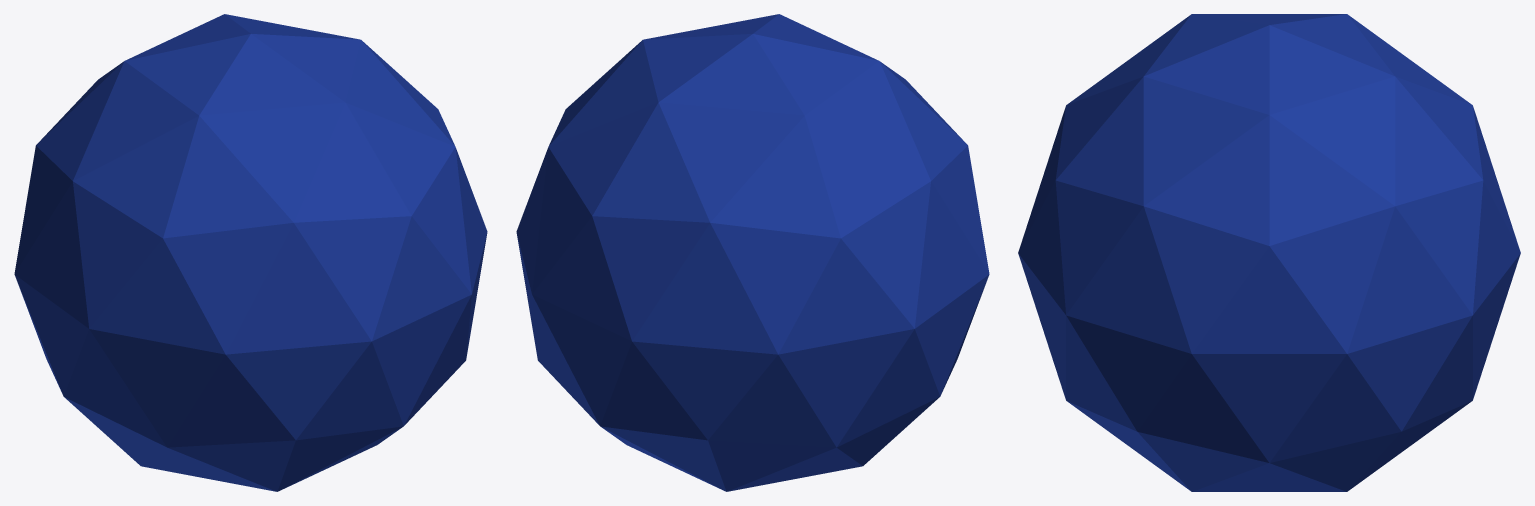
The model's file is shield_activated_ability.fbx.
The picture shows the model from 3 angles, left to right: view 1: azimuth 30°, elevation 25°; view 2: azimuth 150°, elevation 25°; view 3: azimuth 270°, elevation 25°; orthographic projection. The views are drawn at different scales.
Parts seen in each view (by area): view 1: Sphere; view 2: Sphere; view 3: Sphere.
Boxes of the visible parts, x1=… form: Sphere: x1=14, y1=14, x2=487, y2=491; Sphere: x1=516, y1=14, x2=989, y2=491; Sphere: x1=1018, y1=14, x2=1520, y2=491.
Size of the model in its own units: 453 by 476 by 476.
